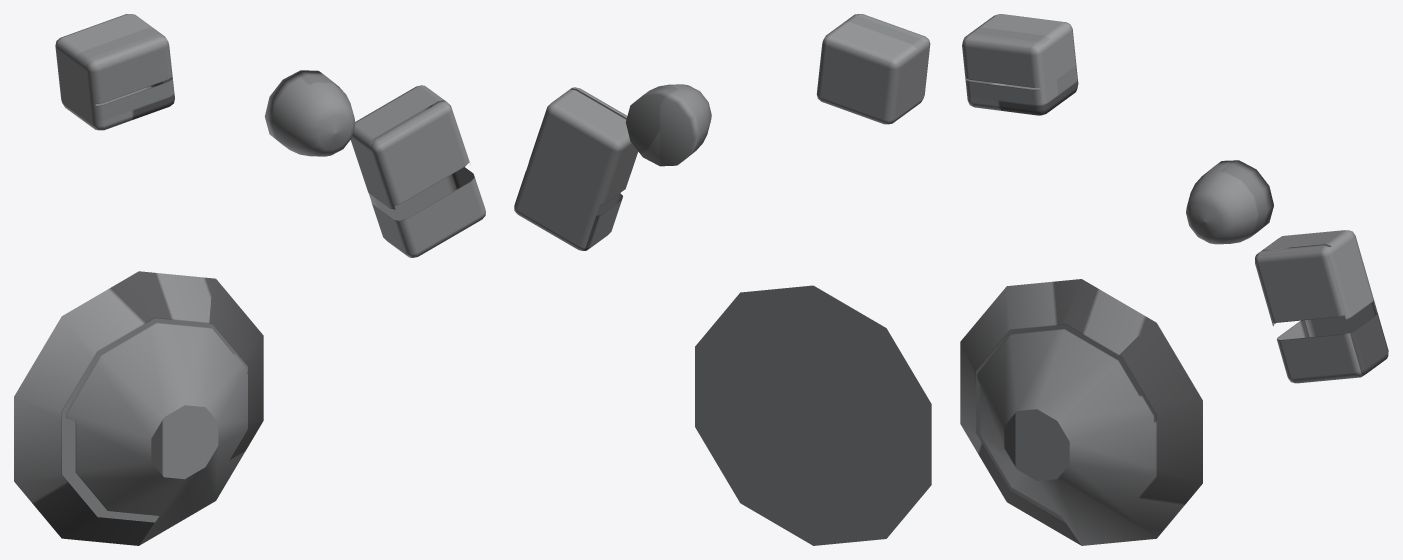
3 renders of one model, left to right at view 1: azimuth 30°, elevation 25°; view 2: azimuth 150°, elevation 25°; view 3: azimuth 330°, elevation 25°, orthographic. The views are drawn at different scales.
Size of the model in its own units: 0.653 by 0.757 by 0.117.
